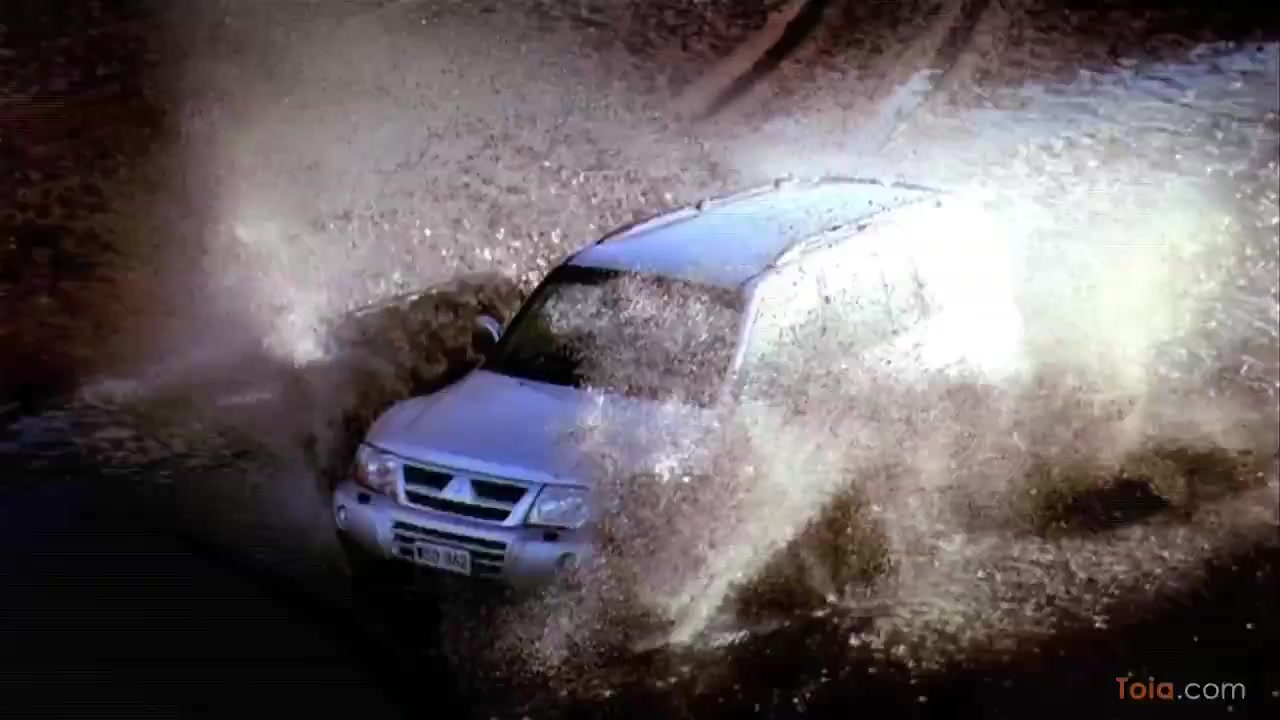car: (328, 178, 1039, 604)
